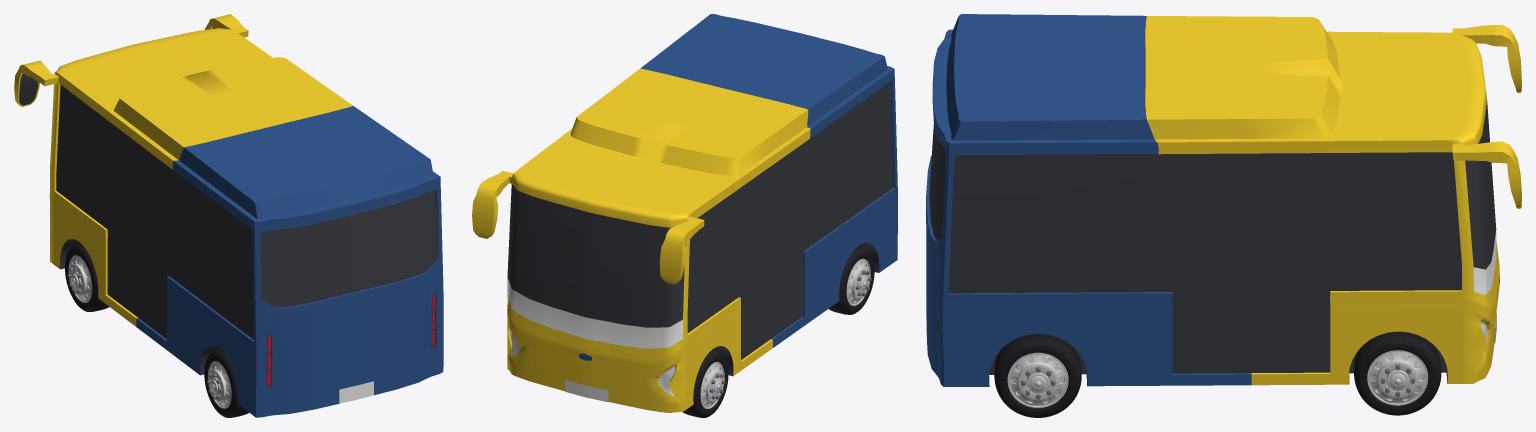
The model's file is Trans_Gadjah_Mada.glb.
The picture shows the model from 3 angles, left to right: view 1: azimuth 30°, elevation 25°; view 2: azimuth 150°, elevation 25°; view 3: azimuth 270°, elevation 25°; orthographic projection. The views are drawn at different scales.
Parts seen in each view (by area): view 1: Tayo; view 2: Tayo; view 3: Tayo.
Boxes of the visible parts, x1=… form: Tayo: x1=14, y1=14, x2=443, y2=417; Tayo: x1=472, y1=14, x2=897, y2=417; Tayo: x1=926, y1=14, x2=1521, y2=417.
Bounding box in the file's own units: 0.4144 × 0.4416 × 0.8058.
